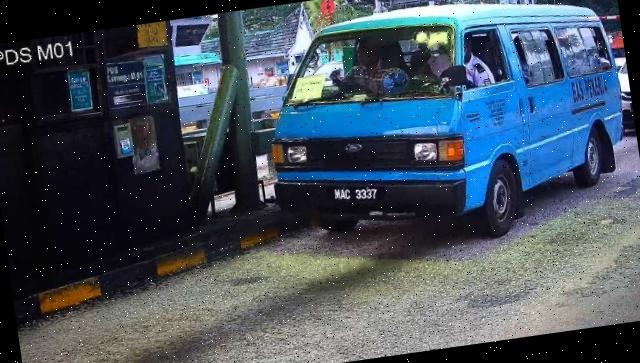License_Plate: (329, 178, 385, 210)
van: (254, 1, 640, 266)
